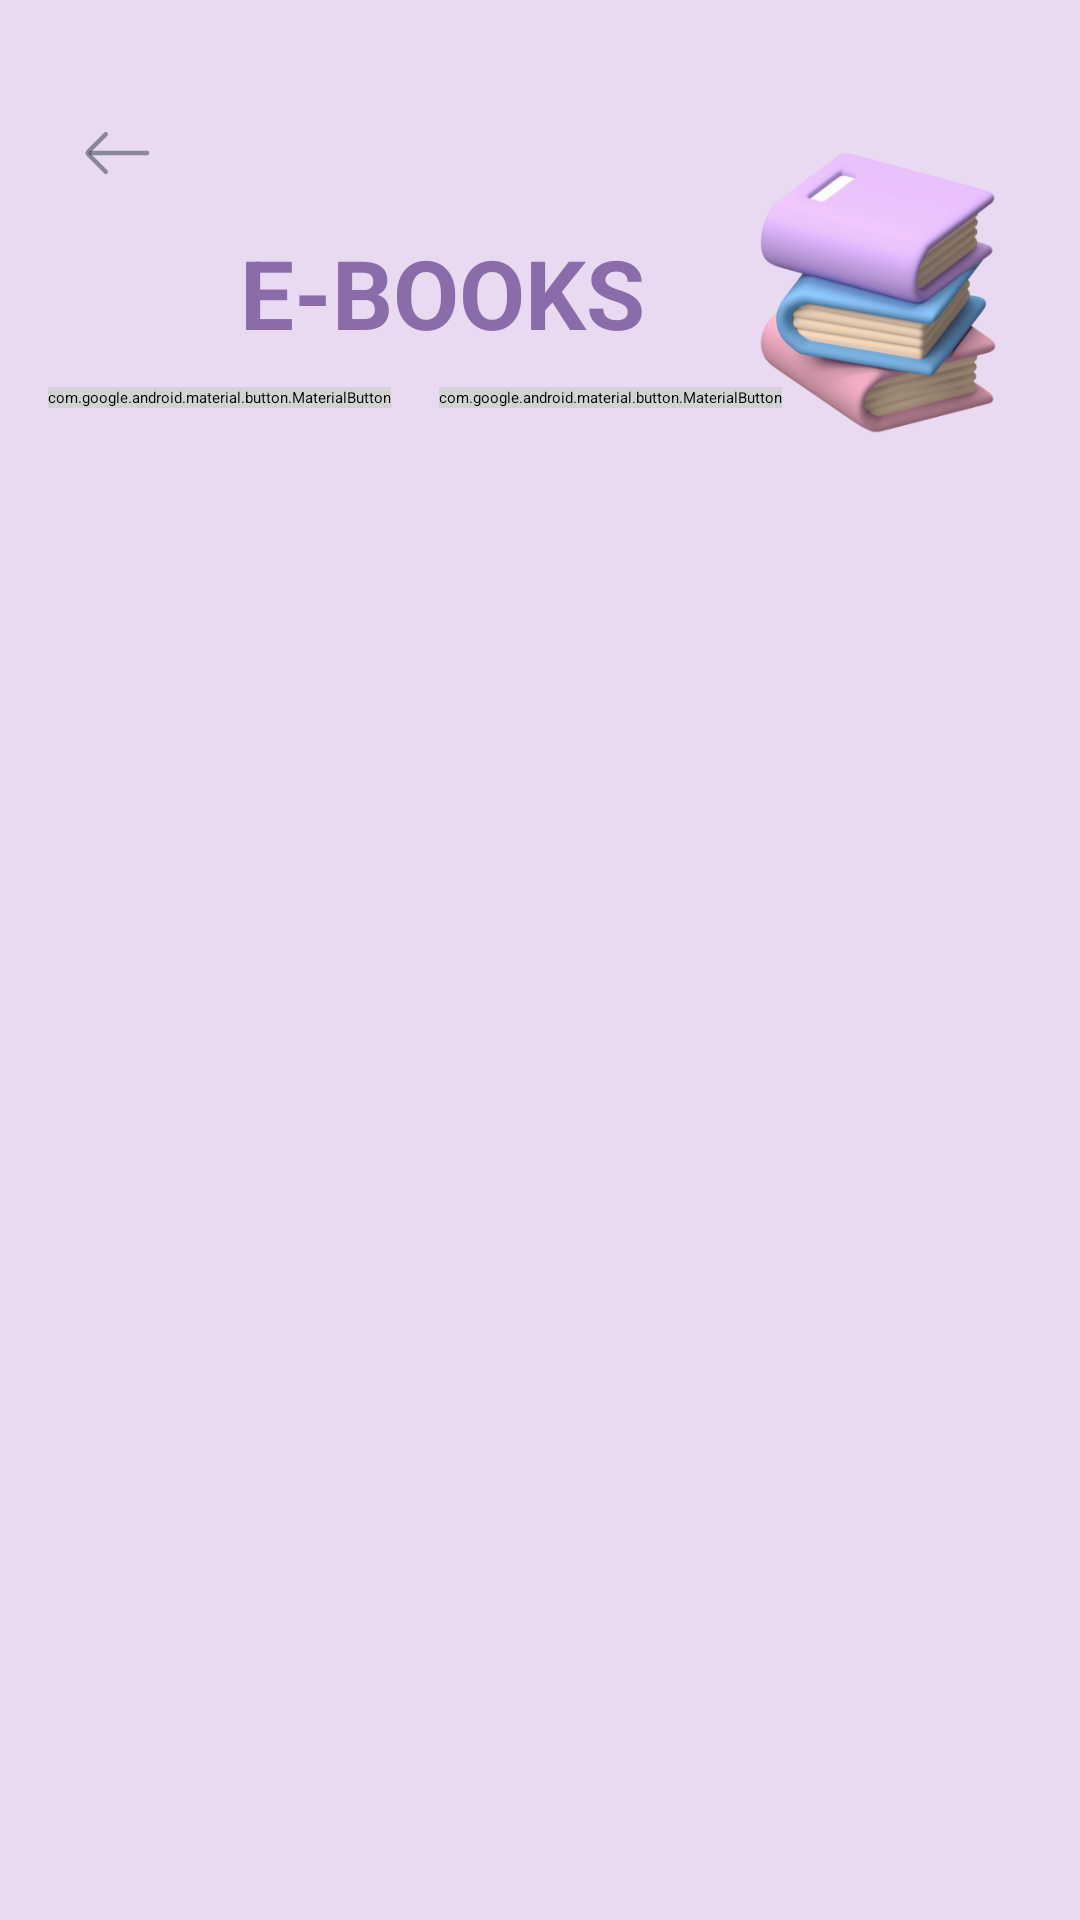

Named icons in this screenshot (1080×1920) and their centers, point (x, y):
arrow eft: point (117, 153)
